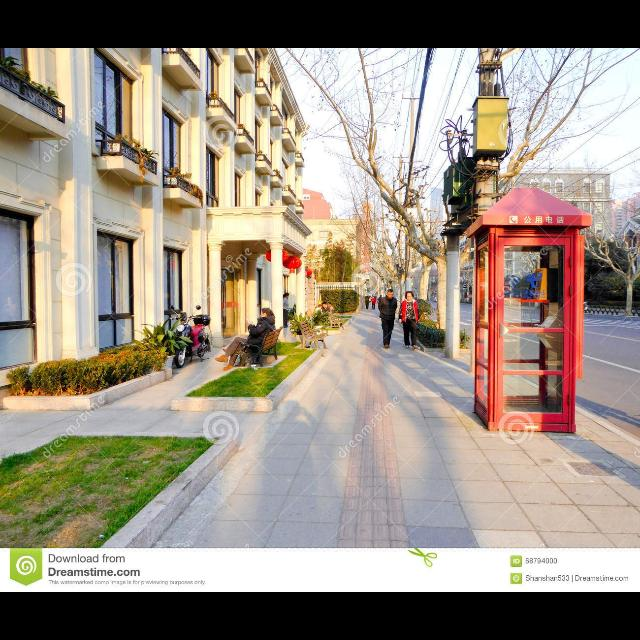head: (260, 308, 272, 320), (264, 310, 274, 318), (387, 289, 395, 299), (406, 292, 414, 302), (322, 302, 328, 310), (328, 302, 332, 308), (285, 294, 289, 298), (319, 305, 323, 309), (374, 297, 376, 299), (381, 295, 383, 297)
person: (213, 307, 277, 373), (222, 308, 278, 368), (398, 290, 422, 350), (378, 289, 398, 351), (311, 301, 331, 331), (280, 292, 290, 330), (320, 302, 336, 322), (314, 304, 328, 324), (378, 294, 384, 310), (371, 296, 377, 310)
